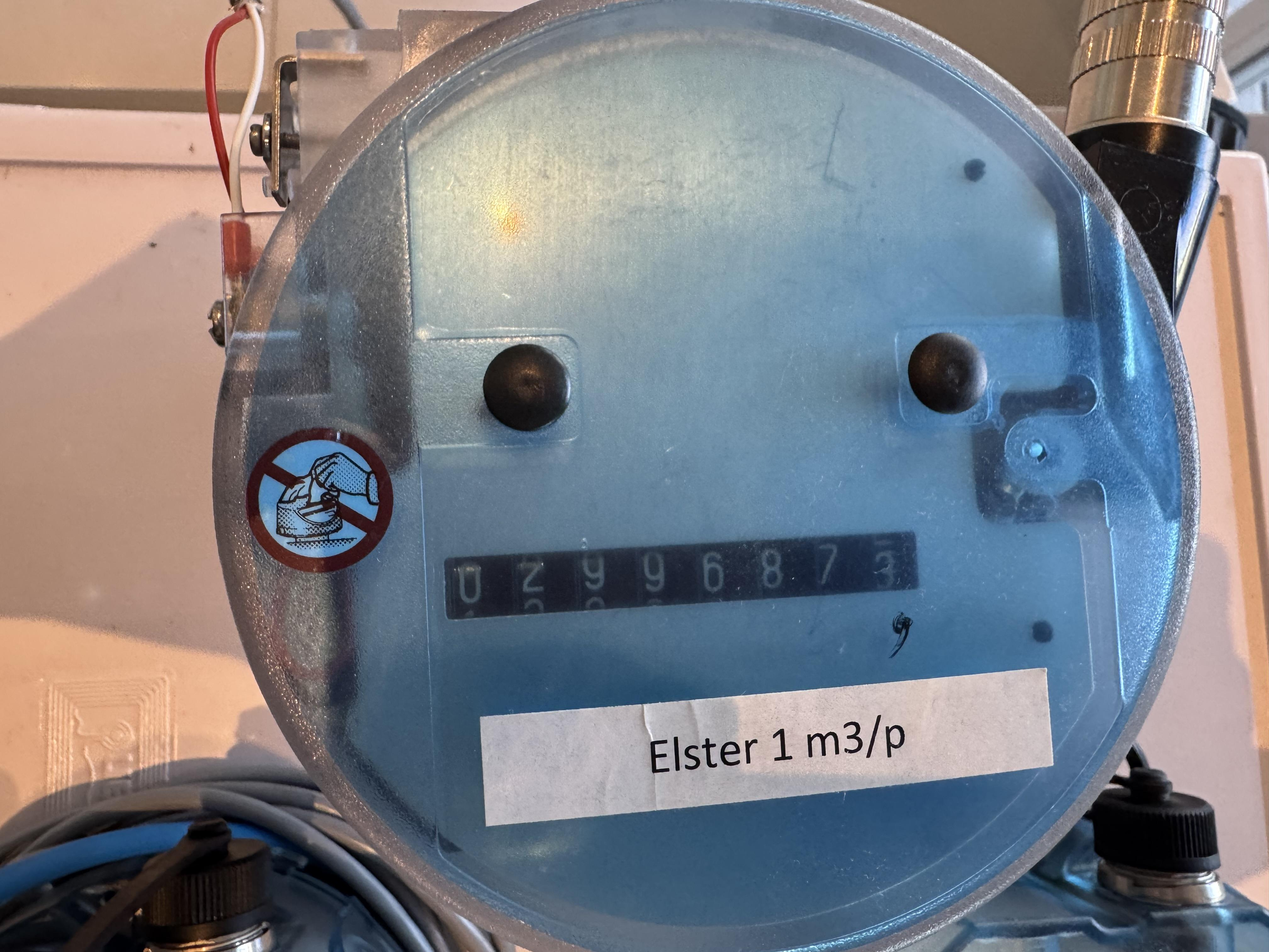analog_dial: (438, 525, 930, 669)
